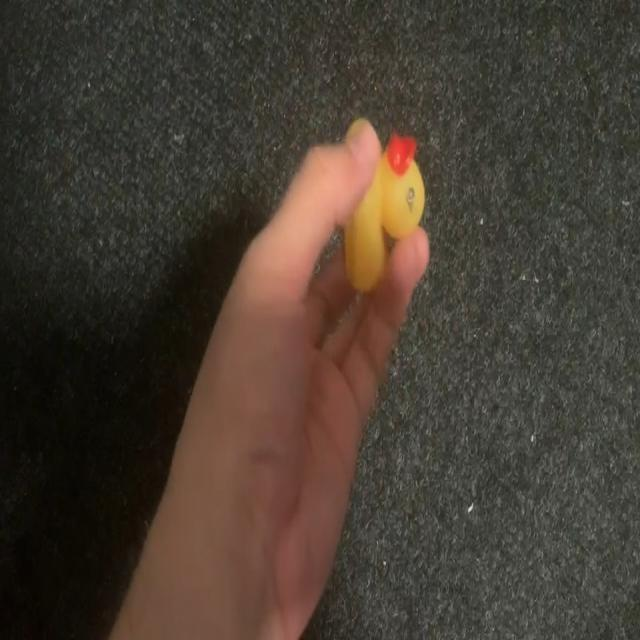rubber-duck: (344, 133, 423, 289)
